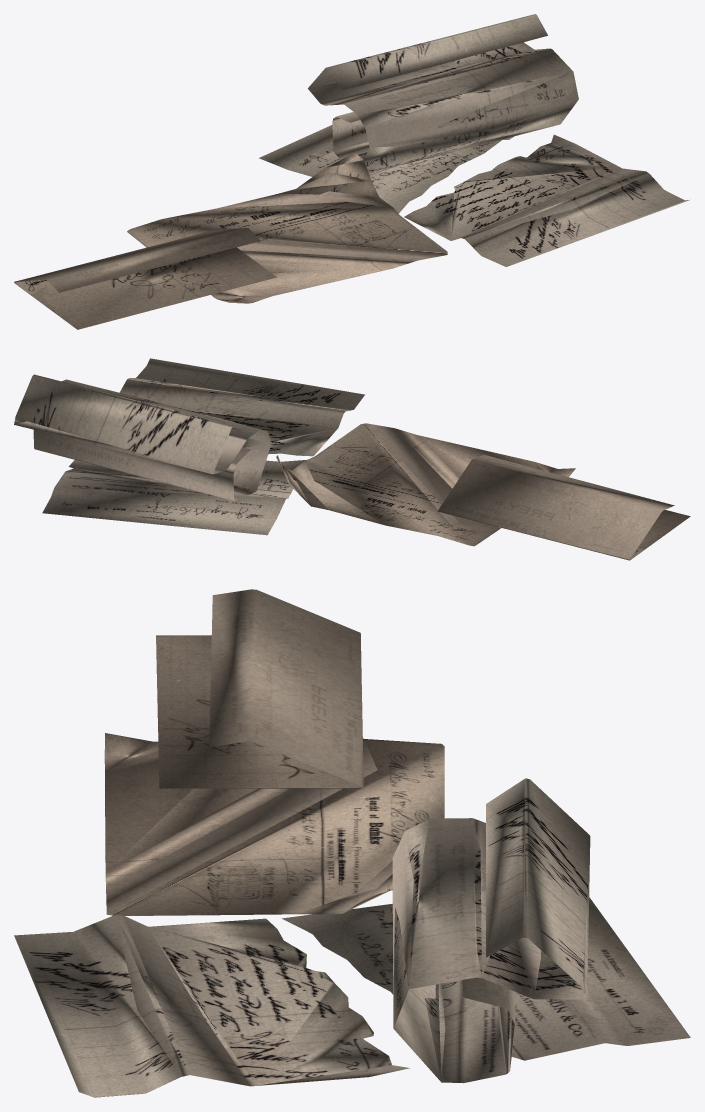
The model's file is 19th-Century Paper Clutter Waste.001.fbx.
The picture shows the model from 3 angles, top to bottom: view 1: azimuth 30°, elevation 25°; view 2: azimuth 150°, elevation 25°; view 3: azimuth 270°, elevation 25°; orthographic projection. The views are drawn at different scales.
Visible parts, largest first — view 1: 19th-Century Paper Clutter Waste.001; view 2: 19th-Century Paper Clutter Waste.001; view 3: 19th-Century Paper Clutter Waste.001.
Boxes of the visible parts, x1,y1,x2,y2 form: 19th-Century Paper Clutter Waste.001: (14, 14, 690, 329); 19th-Century Paper Clutter Waste.001: (14, 358, 690, 560); 19th-Century Paper Clutter Waste.001: (14, 589, 690, 1097).
Size of the model in its own units: 54.25 by 8.15 by 33.47.
Materials: 2 (2 with a texture image).
